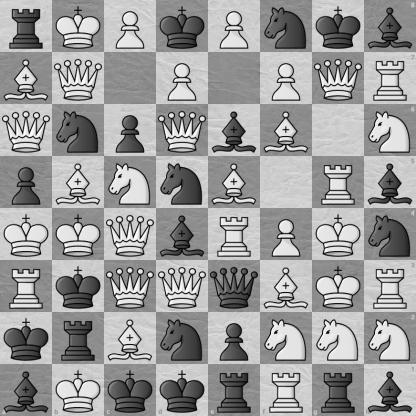B: (1, 53, 52, 104), (53, 157, 104, 208), (105, 313, 156, 364), (209, 157, 260, 208), (261, 105, 312, 156), (261, 261, 312, 312)
K: (52, 364, 104, 416), (1, 209, 52, 260), (53, 1, 104, 52), (53, 209, 104, 260), (313, 209, 364, 260), (313, 261, 364, 312)
N: (364, 104, 416, 156), (364, 312, 416, 364), (105, 157, 156, 208), (261, 313, 312, 364), (313, 313, 364, 364)
P: (105, 1, 156, 52), (157, 53, 208, 104), (209, 1, 260, 52), (261, 53, 312, 104), (261, 209, 312, 260)
Q: (1, 105, 52, 156), (53, 53, 104, 104), (105, 209, 156, 260), (105, 261, 156, 312), (157, 105, 208, 156), (157, 261, 208, 312), (313, 53, 364, 104)
R: (260, 364, 312, 416), (364, 52, 416, 104), (364, 260, 416, 312), (1, 261, 52, 312), (209, 209, 260, 260), (313, 157, 364, 208)
b: (364, 156, 416, 209), (0, 364, 52, 416), (364, 0, 416, 52), (364, 364, 416, 416), (157, 209, 208, 260), (209, 105, 260, 156)
board: (0, 0, 415, 415)
k: (156, 364, 209, 416), (104, 364, 156, 416), (1, 313, 52, 364), (53, 261, 104, 312), (157, 1, 208, 52), (313, 1, 364, 52)
n: (364, 209, 416, 260), (53, 105, 104, 156), (157, 157, 208, 208), (157, 313, 208, 364), (261, 1, 312, 52)
p: (1, 157, 52, 208), (105, 105, 156, 156), (209, 313, 260, 364)
q: (209, 261, 260, 312)
r: (312, 364, 364, 416), (209, 364, 260, 416), (1, 1, 52, 52), (53, 313, 104, 364)
